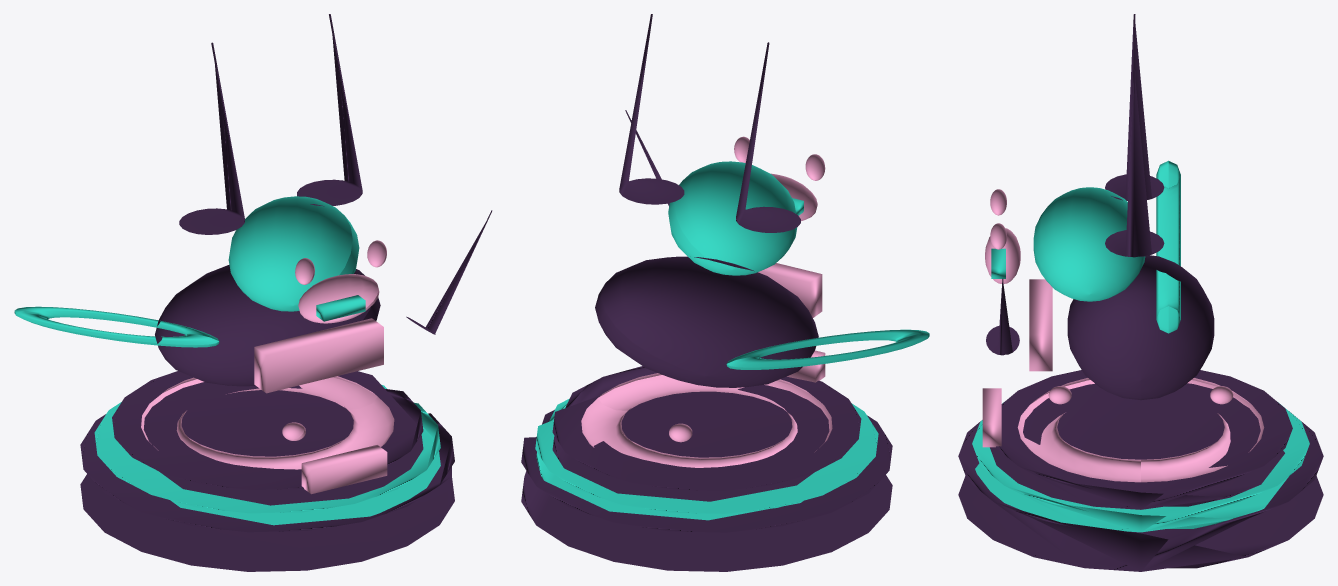
File: the_rind.glb
The picture shows the model from 3 angles, left to right: view 1: azimuth 30°, elevation 25°; view 2: azimuth 150°, elevation 25°; view 3: azimuth 270°, elevation 25°; orthographic projection. The views are drawn at different scales.
Parts seen in each view (by area): view 1: the_rind_#3B2247, the_rind_#2DD4BF, the_rind_#F9A8D4; view 2: the_rind_#3B2247, the_rind_#2DD4BF, the_rind_#F9A8D4; view 3: the_rind_#3B2247, the_rind_#2DD4BF, the_rind_#F9A8D4.
Boxes of the visible parts, box(x1,y1,x2,y2) form: the_rind_#3B2247: box(80, 14, 492, 571); the_rind_#2DD4BF: box(14, 196, 440, 525); the_rind_#F9A8D4: box(141, 240, 394, 494); the_rind_#3B2247: box(521, 14, 892, 571); the_rind_#2DD4BF: box(535, 161, 929, 520); the_rind_#F9A8D4: box(581, 136, 832, 467); the_rind_#3B2247: box(958, 14, 1323, 571); the_rind_#2DD4BF: box(972, 160, 1309, 532); the_rind_#F9A8D4: box(982, 189, 1264, 482).
Bounding box in the file's own units: 2.12 × 2.35 × 1.72.
